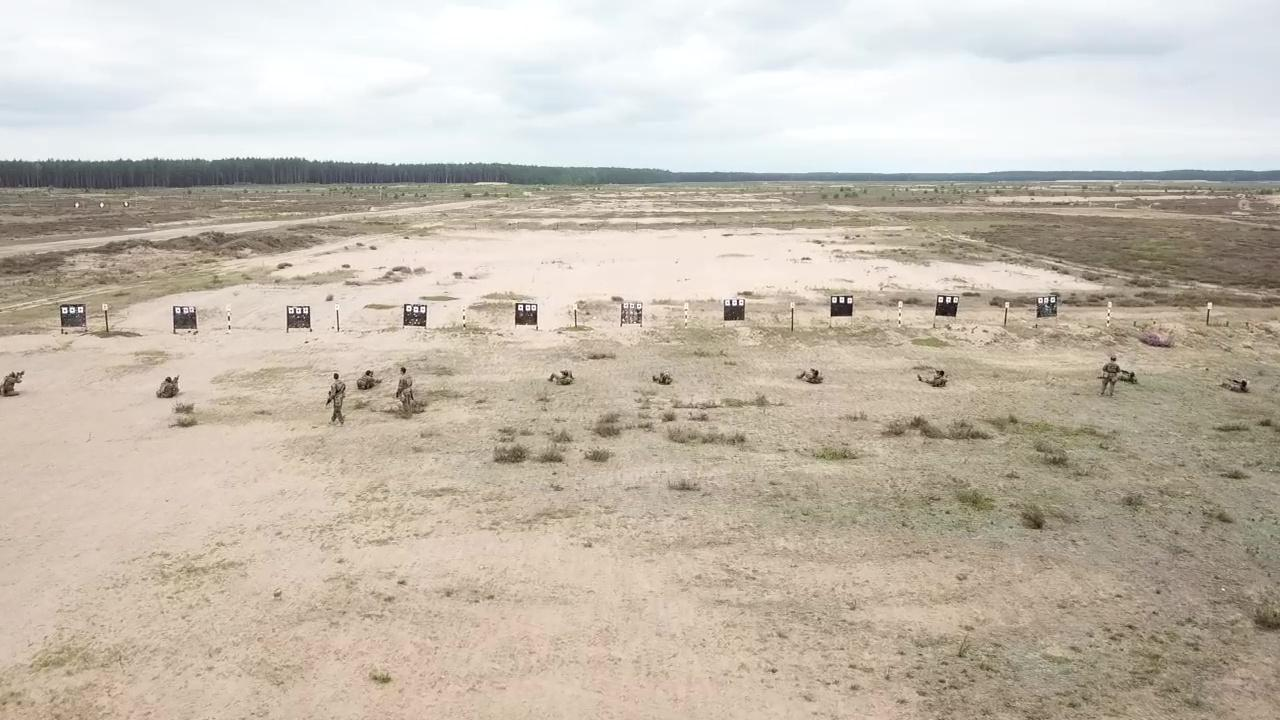Soldier: (390, 363, 417, 421), (323, 369, 348, 429), (1100, 351, 1120, 400), (914, 364, 951, 389), (355, 365, 382, 397), (152, 374, 184, 400), (0, 369, 25, 400), (794, 365, 825, 388), (547, 365, 575, 390)
